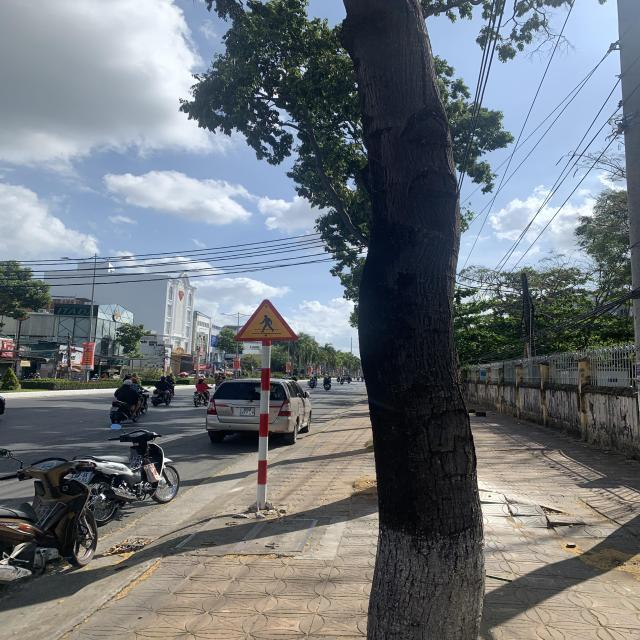Duong_Nguoi_Di_Bo_Sang_Ngang: (234, 299, 299, 342)
